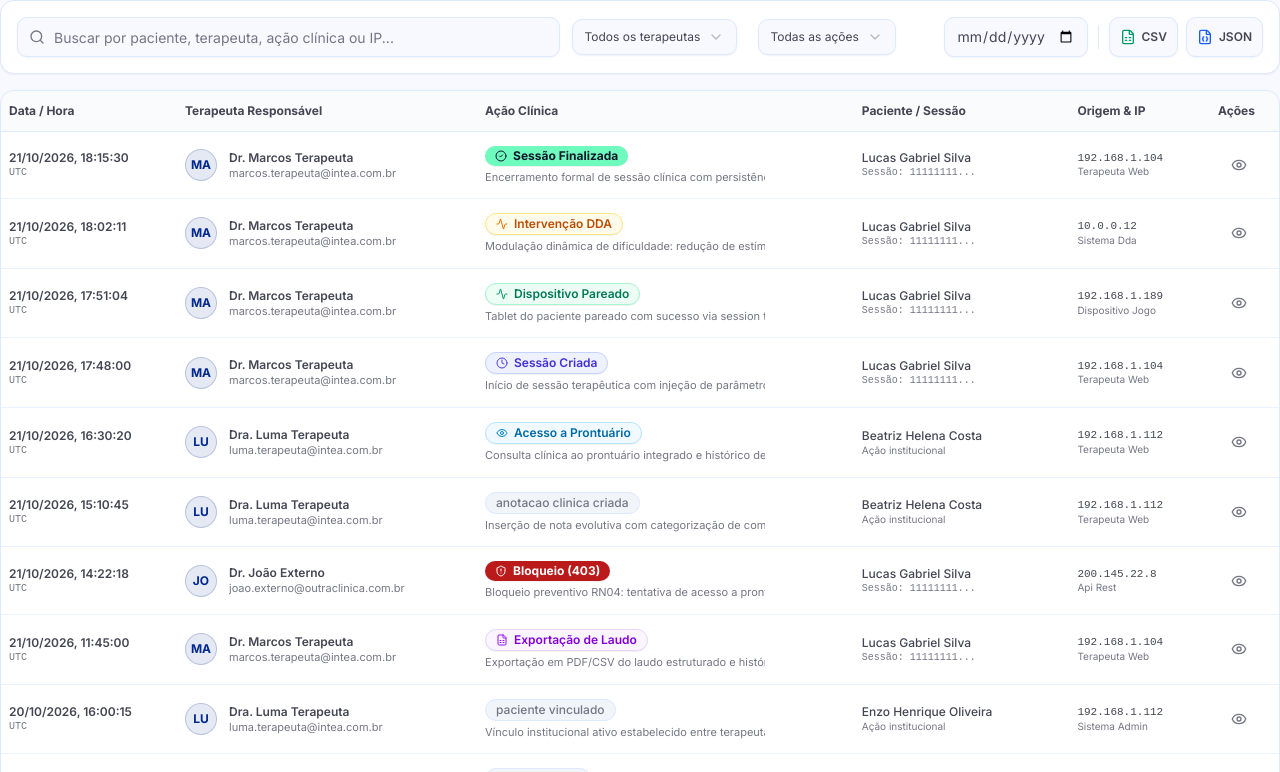
Frontend: Auditoria Administrativa (RF07 / RF08) › Componente: TabelaAuditoria › deve exibir estado vazio quando a busca não encontra nenhum resultado
Type "TermoInexistenteXYZ999" into the field with test id "input-busca-auditoria" at (288, 37), box [17, 17, 560, 57]
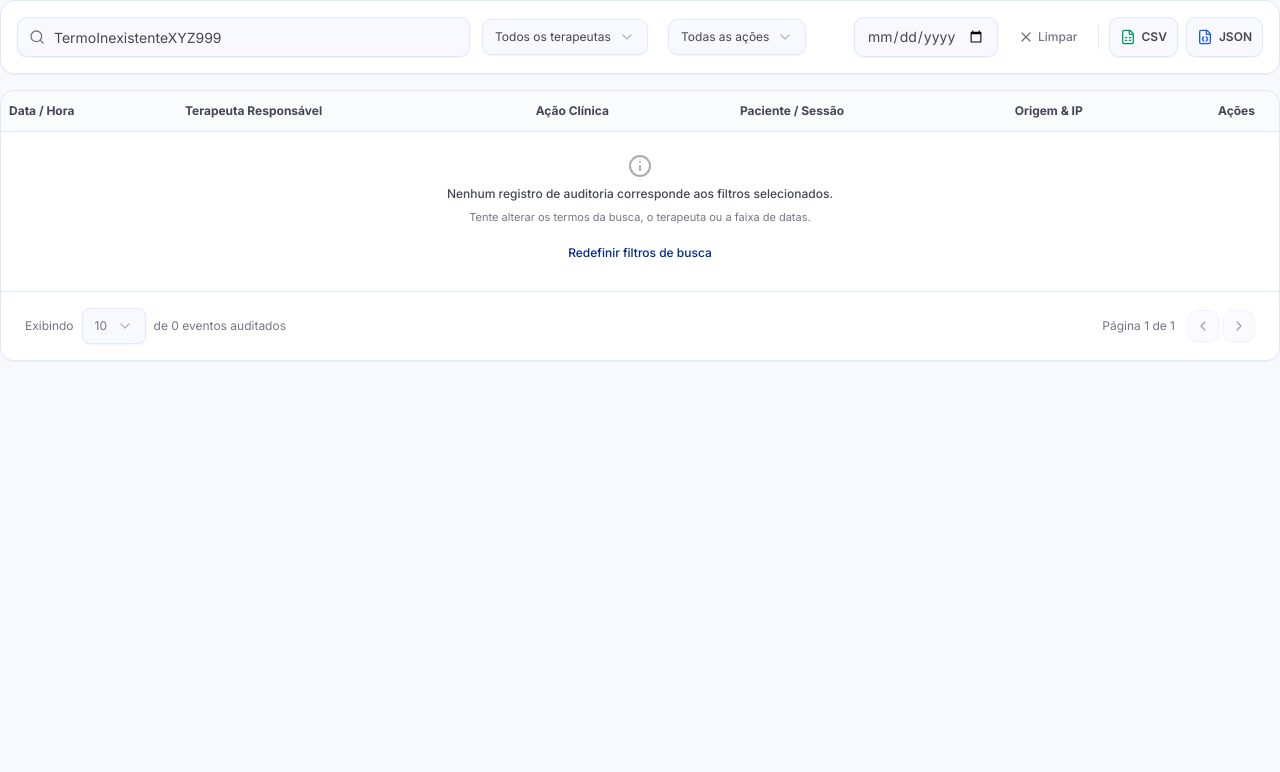
Now the text "Nenhum registro de auditoria corresponde aos filtros selecionados." is shown, box [447, 186, 833, 202]
